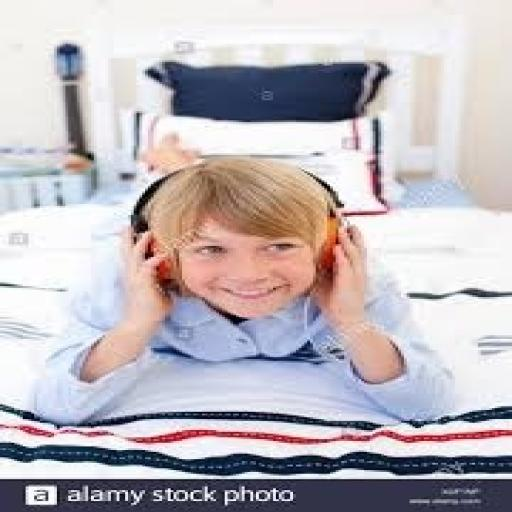listening_to_music: (28, 155, 461, 426)
